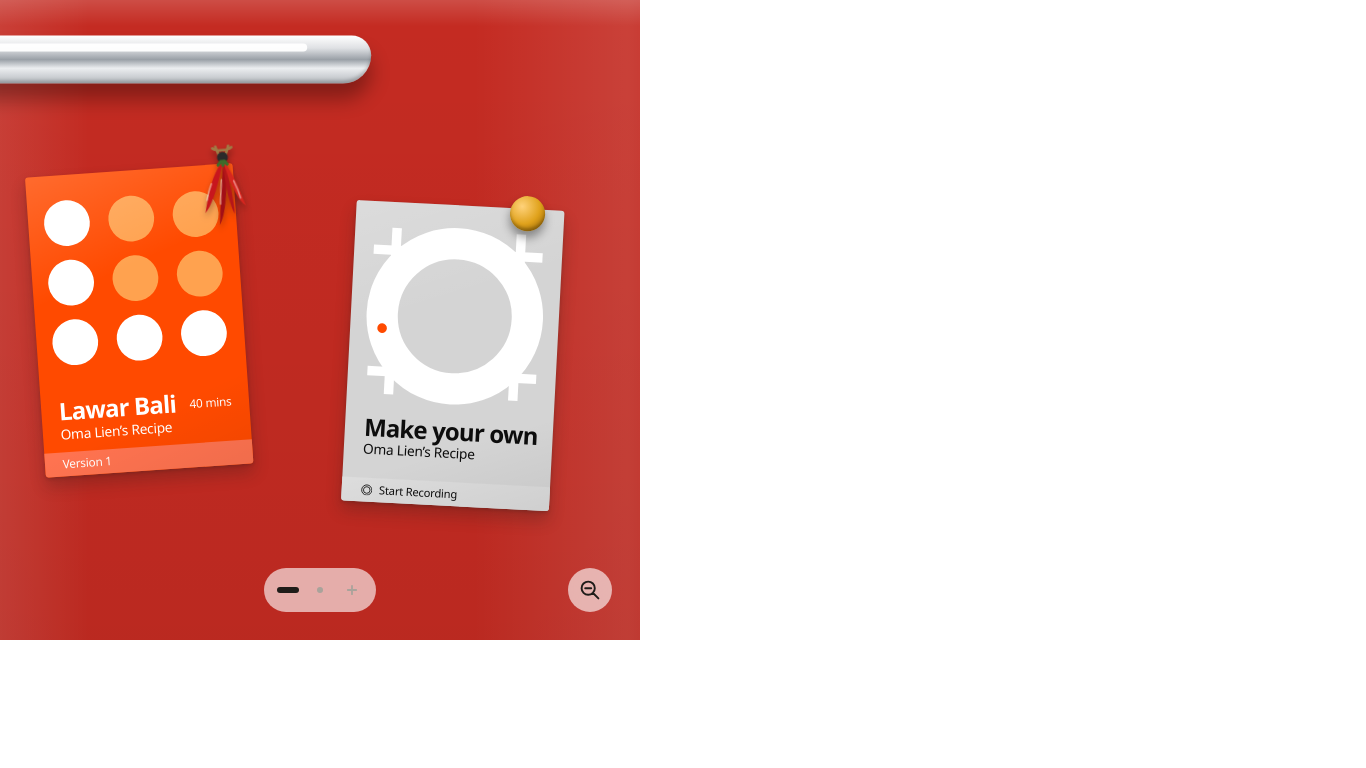
Test: FridgeScreen › a new fridge closed without a name is not kept
Click the button named "New fridge": (352, 590) x1=336 y1=568 x2=368 y2=612
Wait 3000 ms
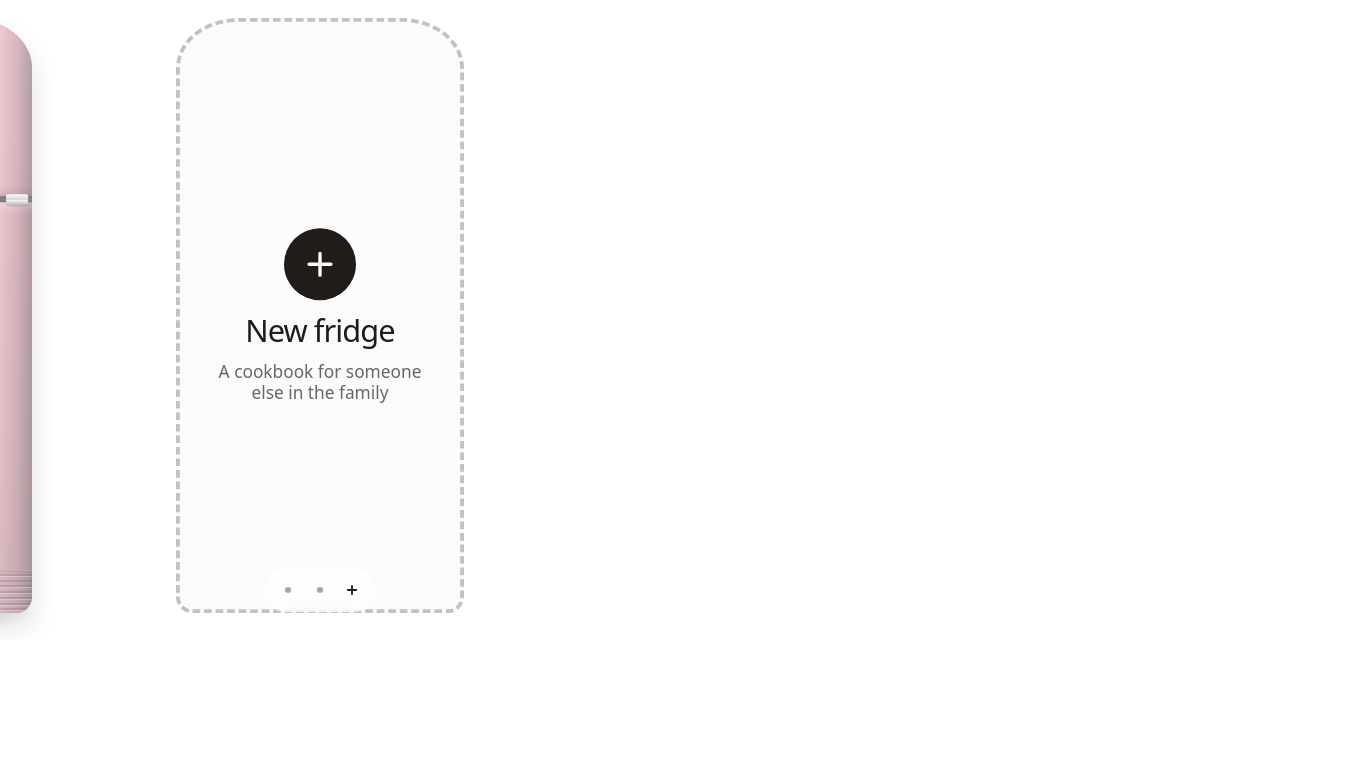
Click the button with aria-label "Build a new fridge for another cookbook": (320, 316) x1=176 y1=18 x2=464 y2=613
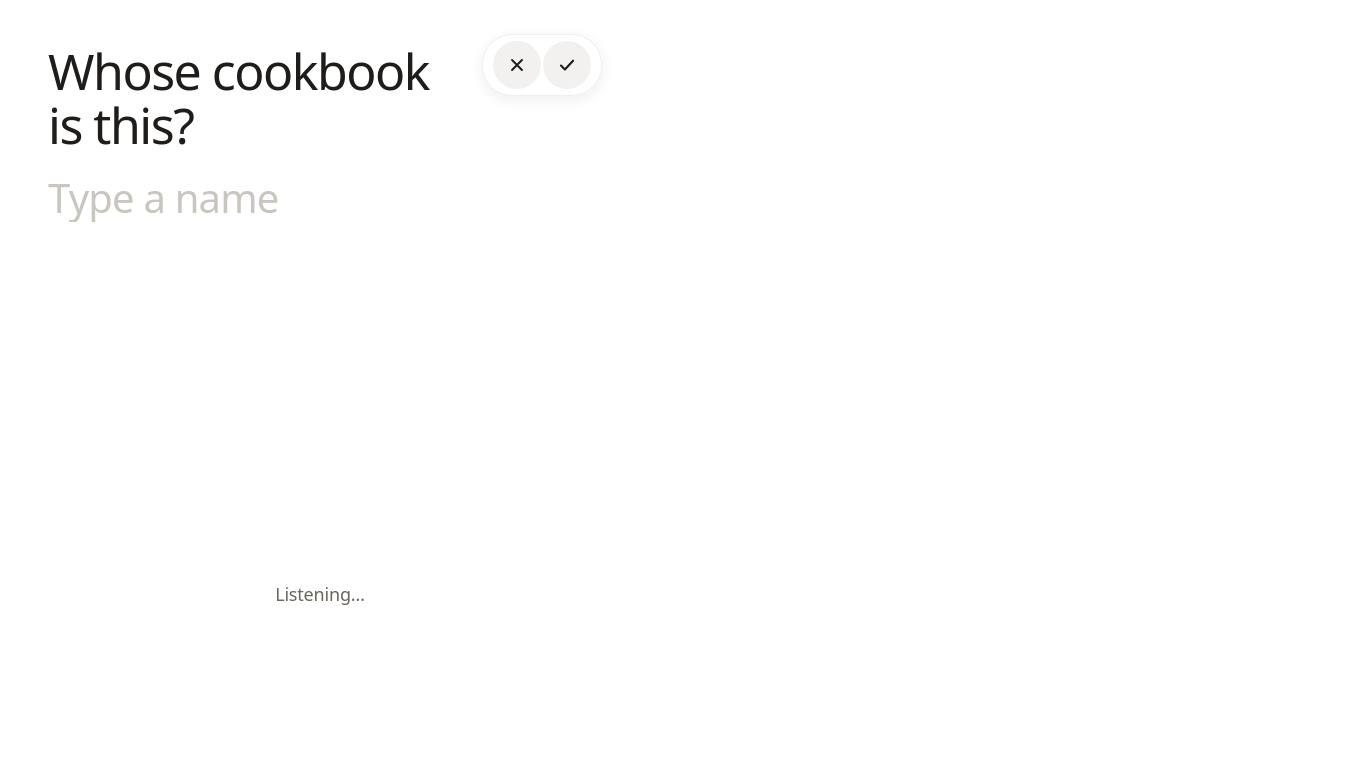
Click the button named "Not now": (517, 65) x1=493 y1=41 x2=541 y2=89
Wait 600 ms
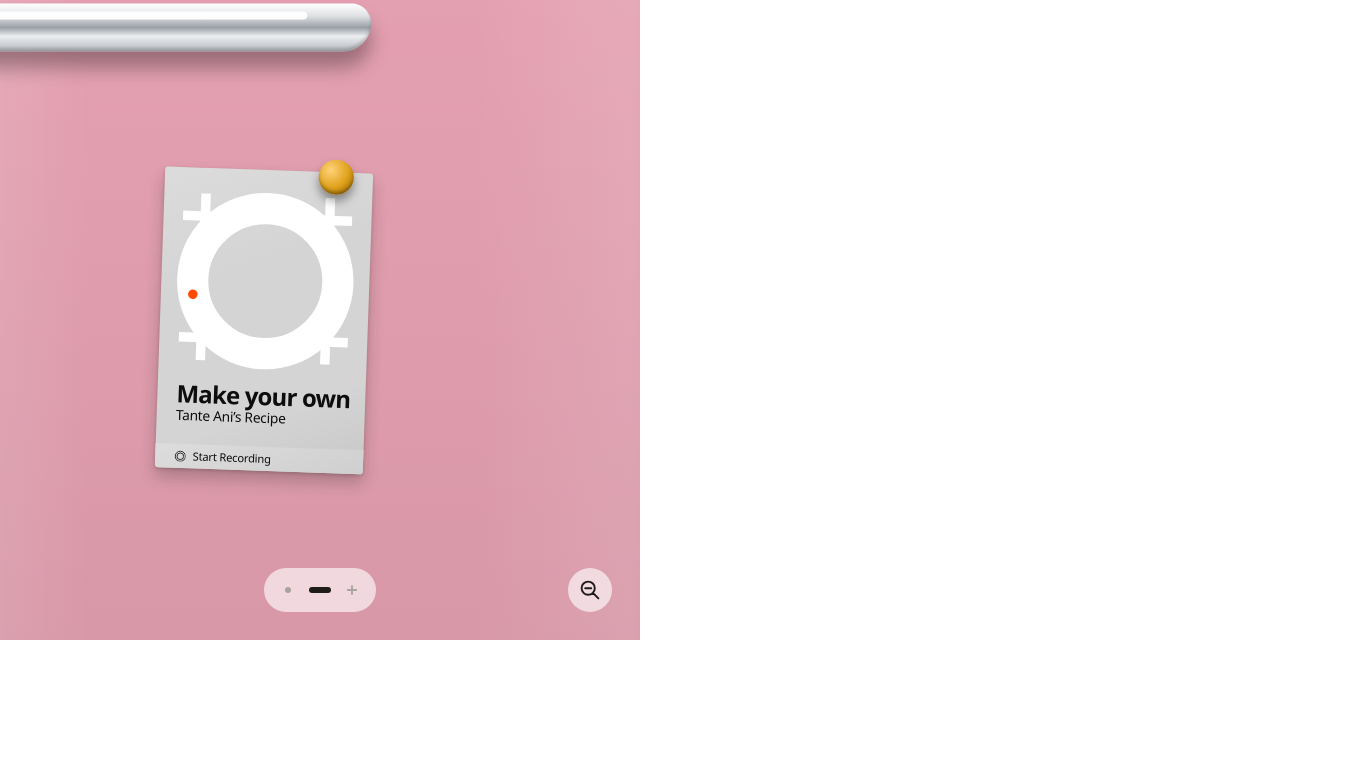
Result: the dialog is gone
